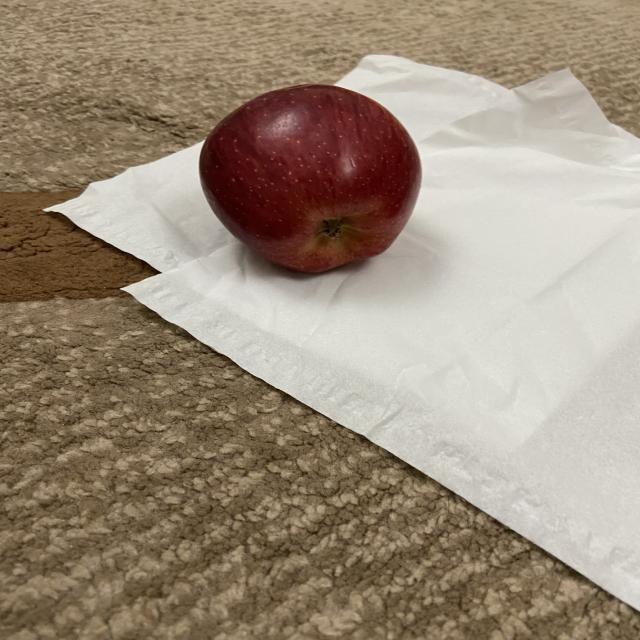apple: (195, 78, 430, 278)
